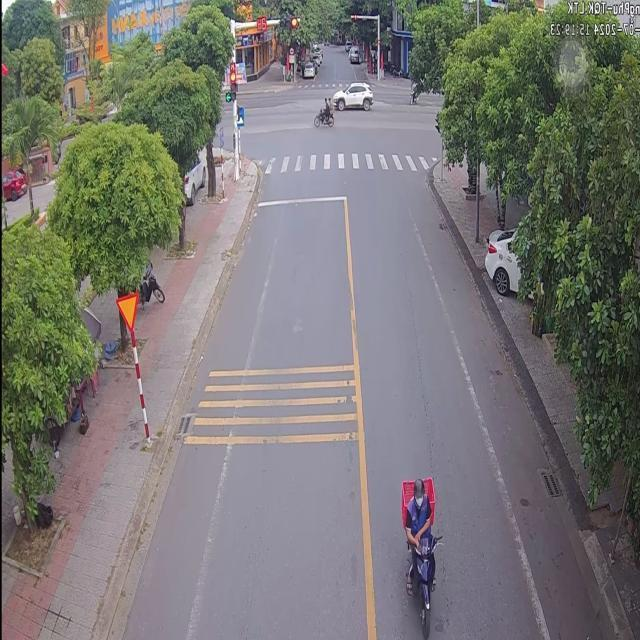car: (483, 227, 519, 293), (332, 81, 372, 109)
motobike: (399, 476, 440, 638), (312, 96, 331, 125)
red_light: (227, 61, 236, 101), (277, 16, 296, 26)
stop_line: (254, 194, 345, 205)
